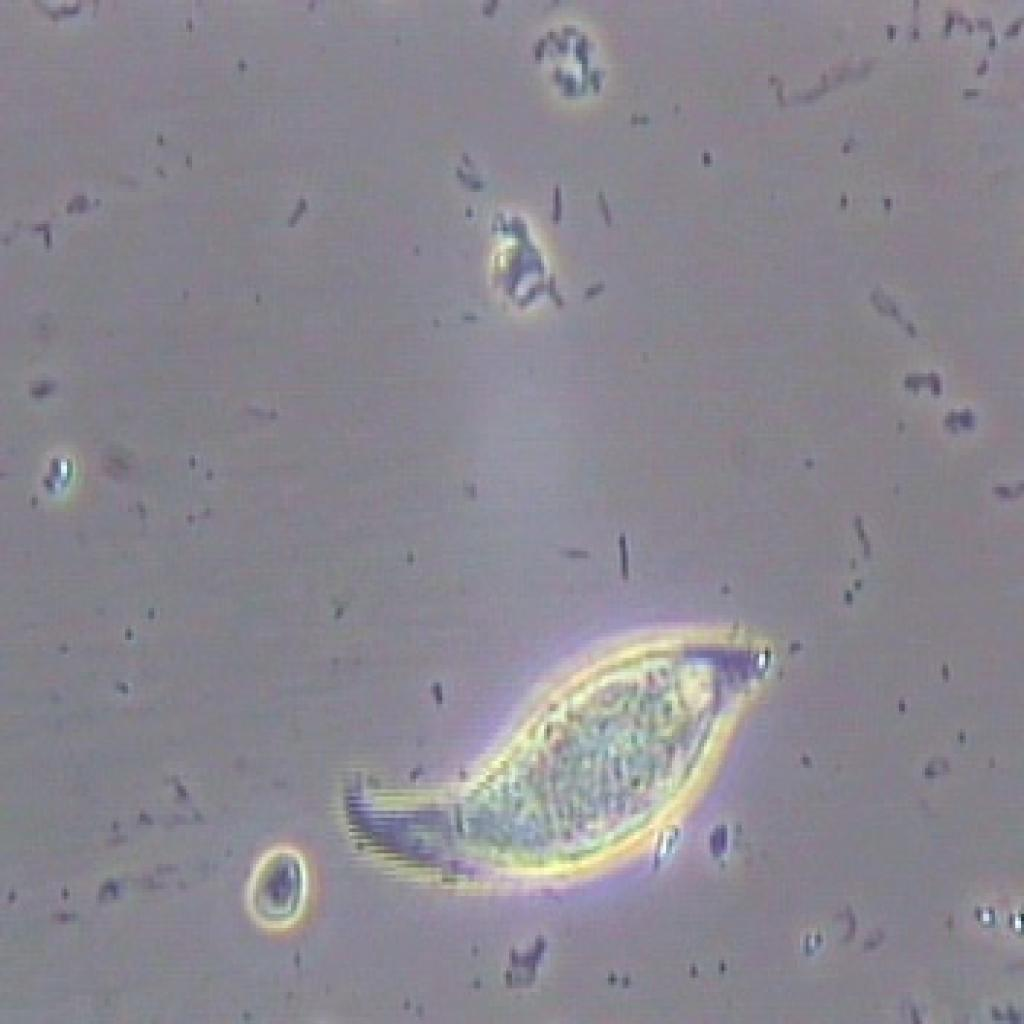Pristina: (320, 583, 777, 910)
